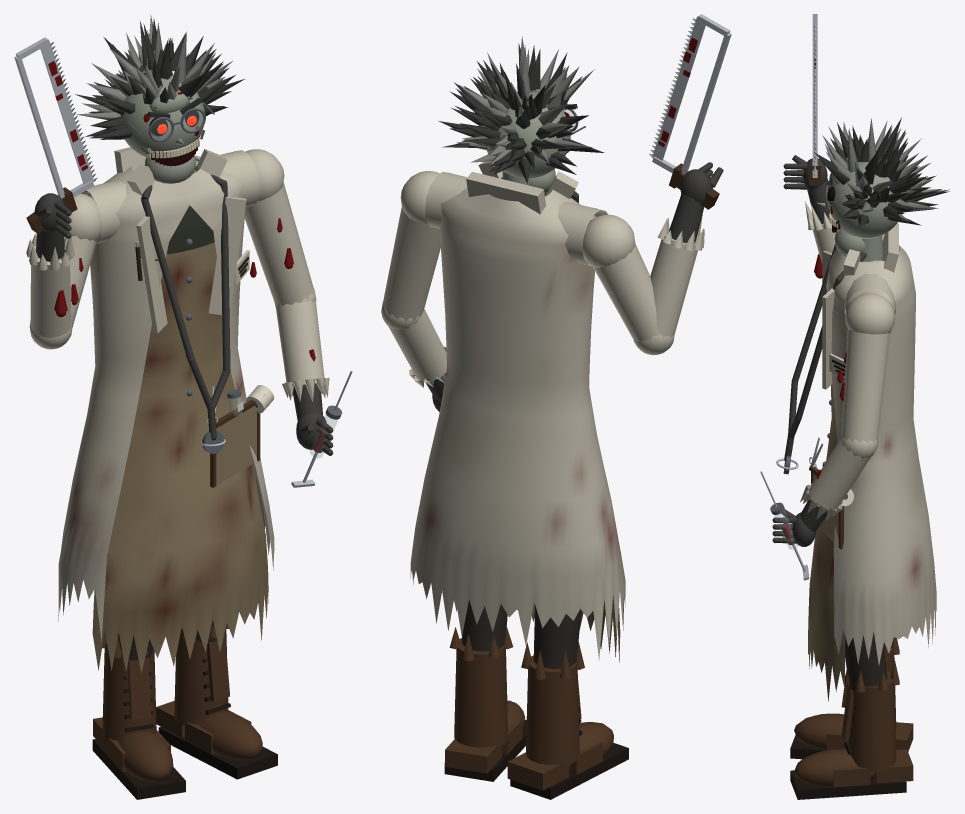
File: doktor.glb
The picture shows the model from 3 angles, left to right: view 1: azimuth 30°, elevation 25°; view 2: azimuth 150°, elevation 25°; view 3: azimuth 270°, elevation 25°; orthographic projection. The views are drawn at different scales.
Parts seen in each view (by area): view 1: Body, Head, Arm_L, Arm_R, Hacksaw_R, Syringe; view 2: Body, Head, Arm_R, Arm_L, Hacksaw_R; view 3: Body, Arm_L, Head, Arm_R, Hacksaw_R, Syringe.
Boxes of the visible parts, x1,y1,x2,y2 form: Body: (58, 147, 277, 799); Head: (75, 14, 245, 183); Arm_L: (244, 149, 333, 455); Arm_R: (26, 193, 101, 349); Hacksaw_R: (14, 37, 97, 233); Syringe: (291, 370, 352, 487); Body: (410, 161, 628, 799); Head: (438, 36, 604, 192); Arm_R: (582, 162, 723, 355); Arm_L: (381, 171, 446, 411); Hacksaw_R: (649, 14, 731, 209); Body: (776, 223, 936, 799); Arm_L: (772, 293, 895, 546); Head: (814, 117, 949, 261); Arm_R: (783, 155, 836, 278); Hacksaw_R: (809, 14, 821, 185); Syringe: (760, 471, 809, 580).
Size of the model in its own units: 0.8964 by 2.06 by 0.5177.
